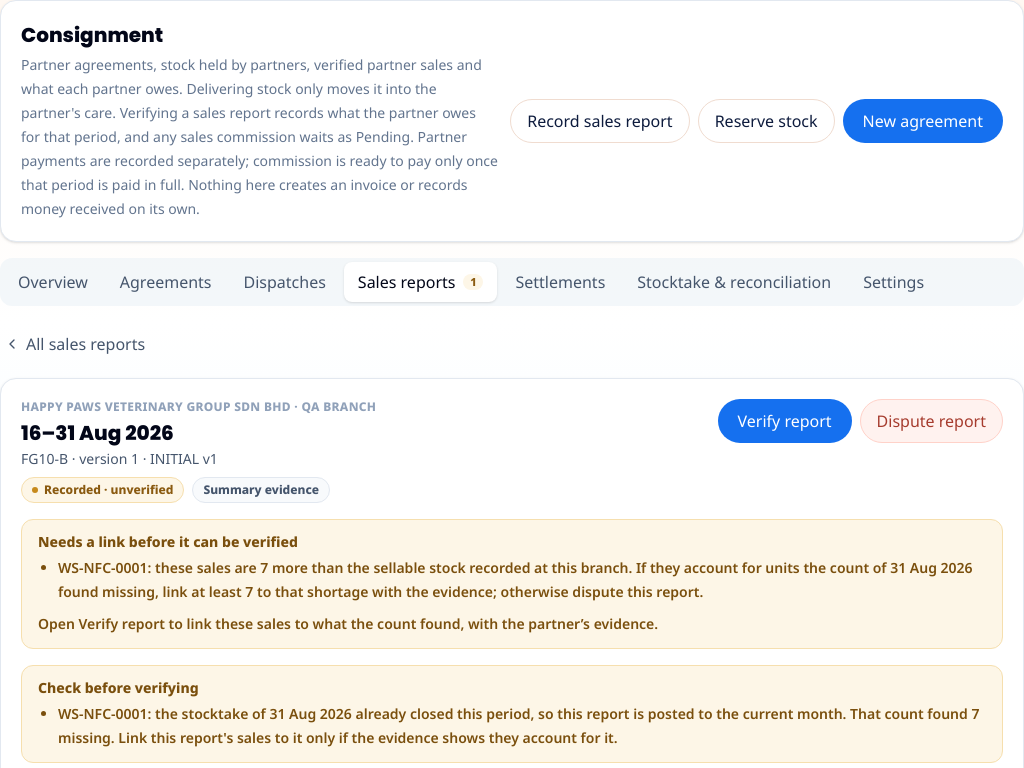
it: A sold-out late report (Codex FG10, real server response) › is shown as needing a link, not as unverifiable, and opens the linking review
This screenshot has width=1024, height=768.
Check: the text "Needs a link before it can be verified" is shown, box [38,532,298,551]
Click the button "Verify report".
click(785, 421)  # box [718,399,852,443]
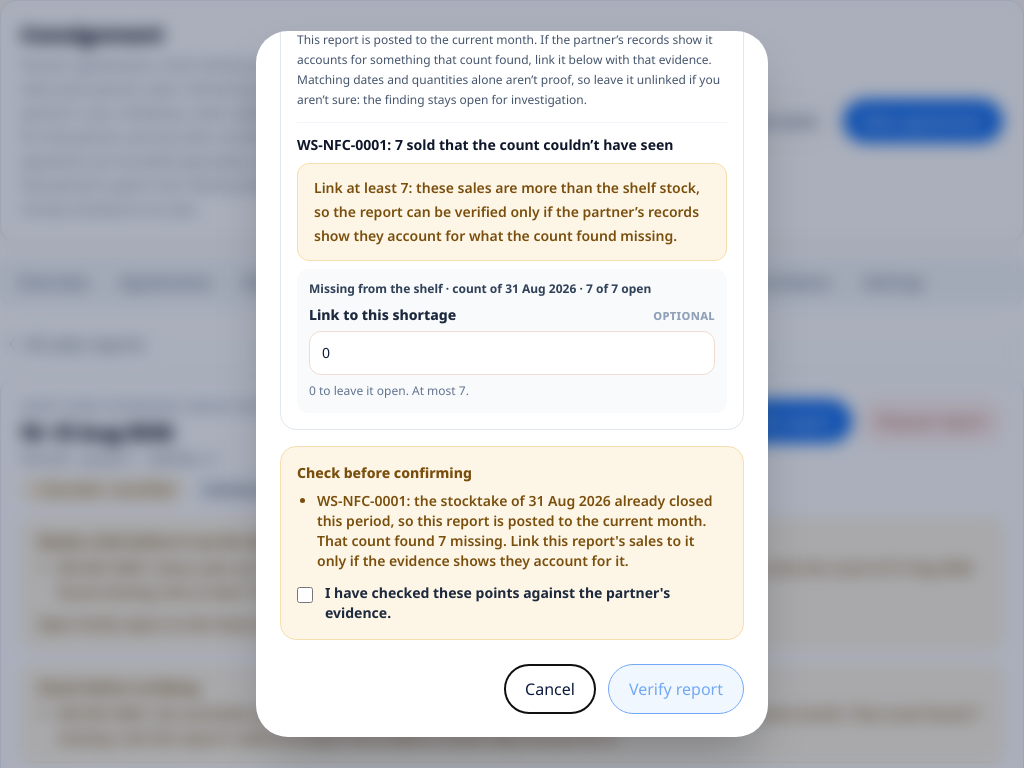
Check: the text "Missing from the shelf · count of 31 Aug 2026 · 7 of 7 open" is shown, box [309,280,651,297]
Check: the text "Link at least 7" is shown, box [314,176,710,248]
